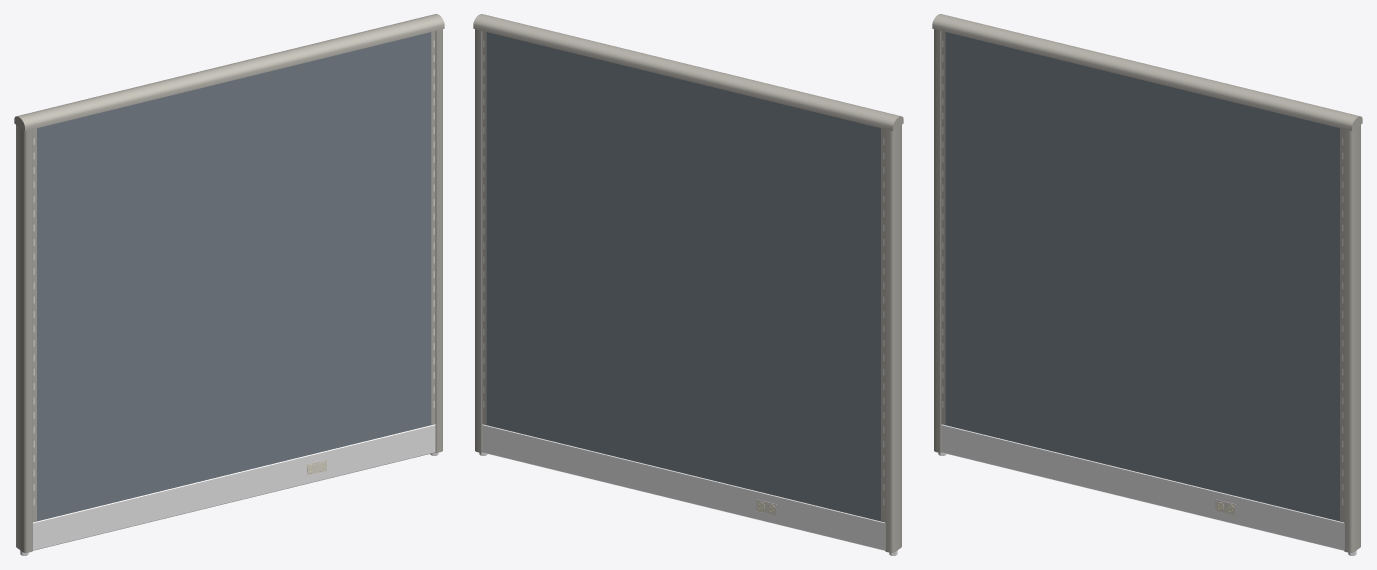
The model's file is Kit_CubiclePanel_Powered.fbx.
The picture shows the model from 3 angles, left to right: view 1: azimuth 30°, elevation 25°; view 2: azimuth 150°, elevation 25°; view 3: azimuth 330°, elevation 25°; orthographic projection.
Visible parts, largest first — view 1: Kit_CubiclePanel_Powered_LOD0; view 2: Kit_CubiclePanel_Powered_LOD0; view 3: Kit_CubiclePanel_Powered_LOD0.
Part boxes in pixels (bbox=[...]): Kit_CubiclePanel_Powered_LOD0: bbox=[14, 14, 444, 555]; Kit_CubiclePanel_Powered_LOD0: bbox=[473, 14, 903, 555]; Kit_CubiclePanel_Powered_LOD0: bbox=[932, 14, 1362, 555].
Size of what is drawn, in the model's own units: 1.52 by 1.52 by 0.067.
